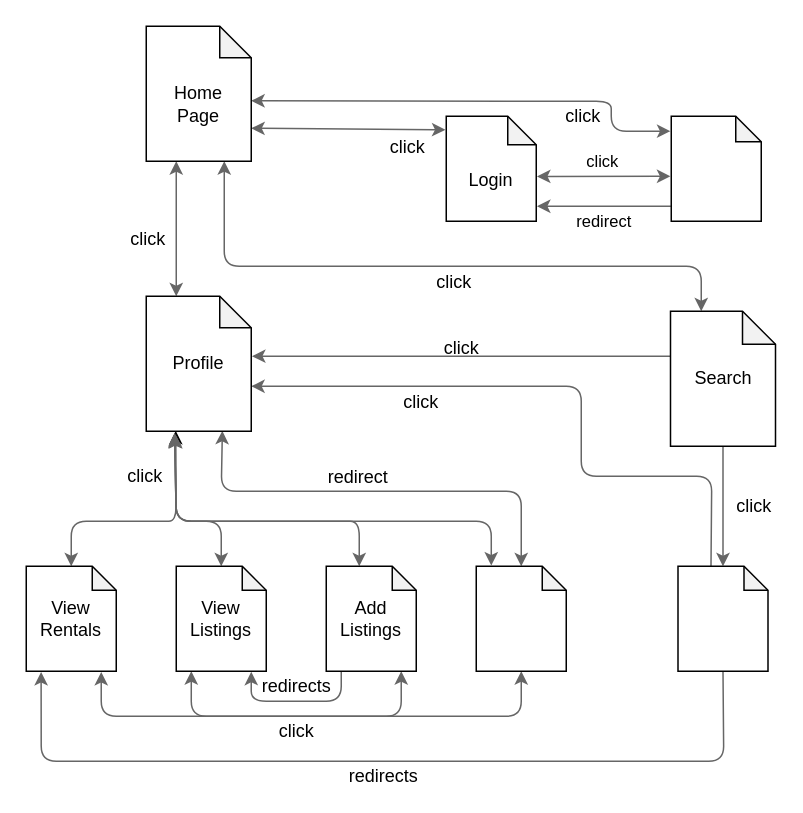
Image size: 803x813. Some labels were removed from this diagram. Here are the shapes that lost their labels. From the top down, the centre of each, then its label:
At (715,168): "Register".
At (520,618): "Edit Profile".
At (722,618): "Reserve Listing".
